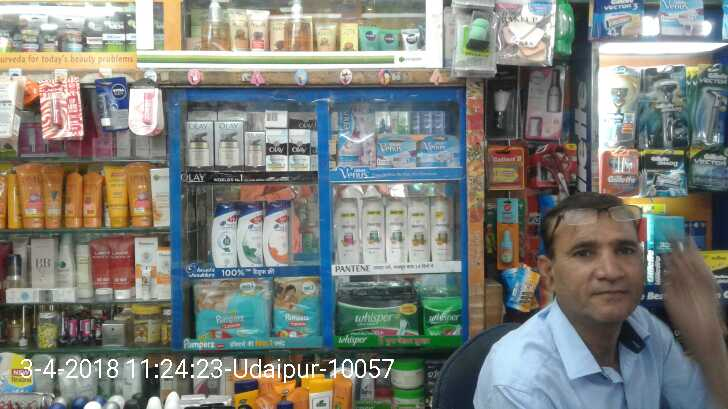gillete: (645, 63, 688, 139), (695, 63, 728, 147), (606, 66, 640, 140), (642, 147, 688, 198), (503, 267, 538, 315), (604, 147, 638, 193), (691, 149, 728, 187), (654, 214, 667, 287), (646, 214, 653, 283)
venus: (339, 104, 376, 167), (417, 135, 459, 167), (380, 138, 416, 167)
